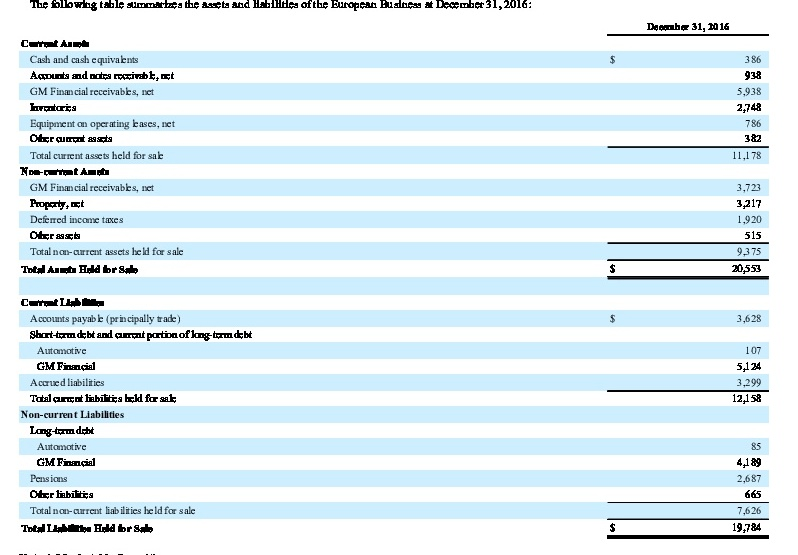table: (0, 0, 798, 555)
